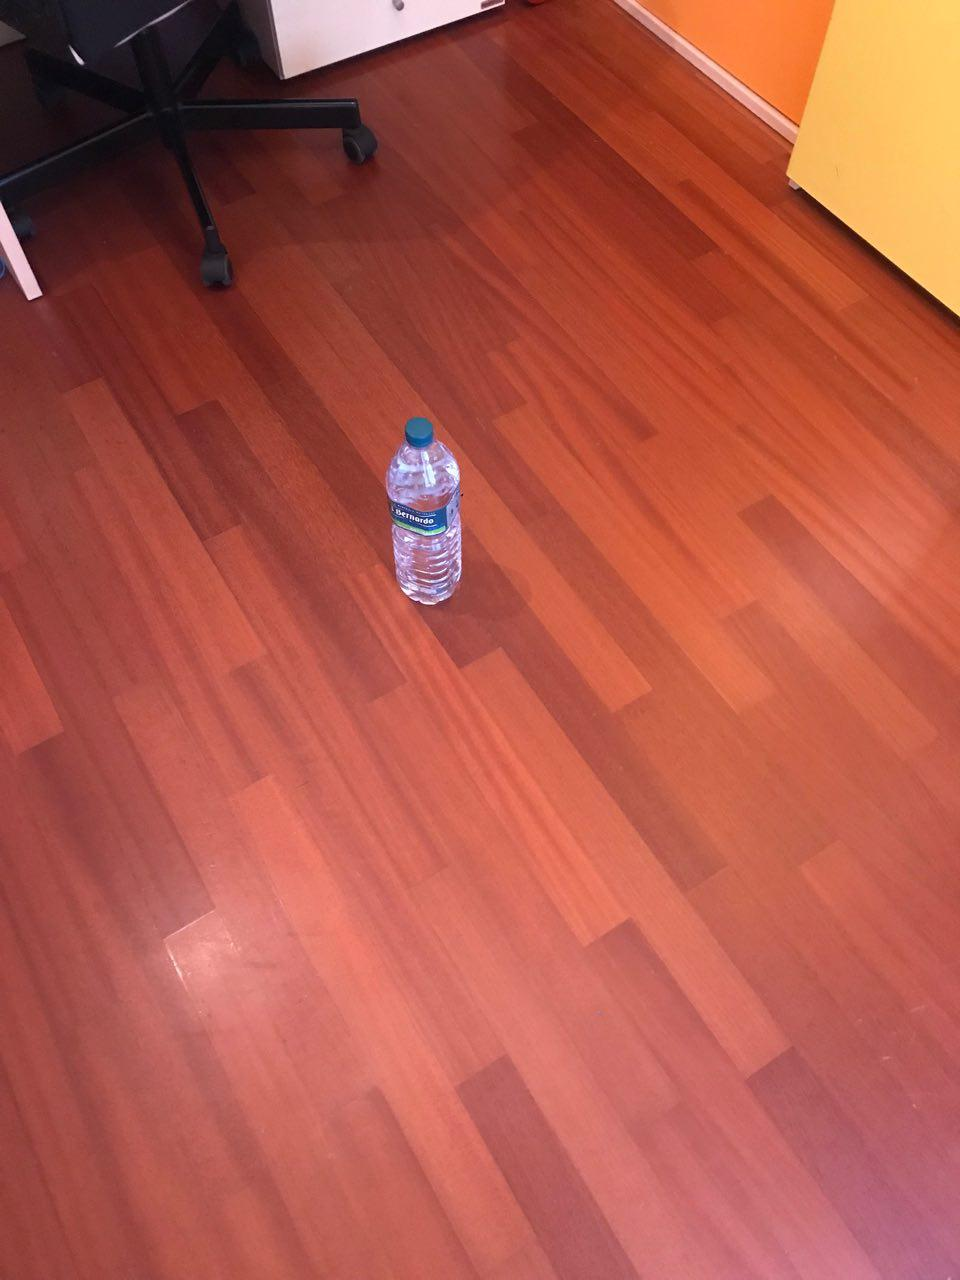san_bernardo: (385, 416, 463, 607)
